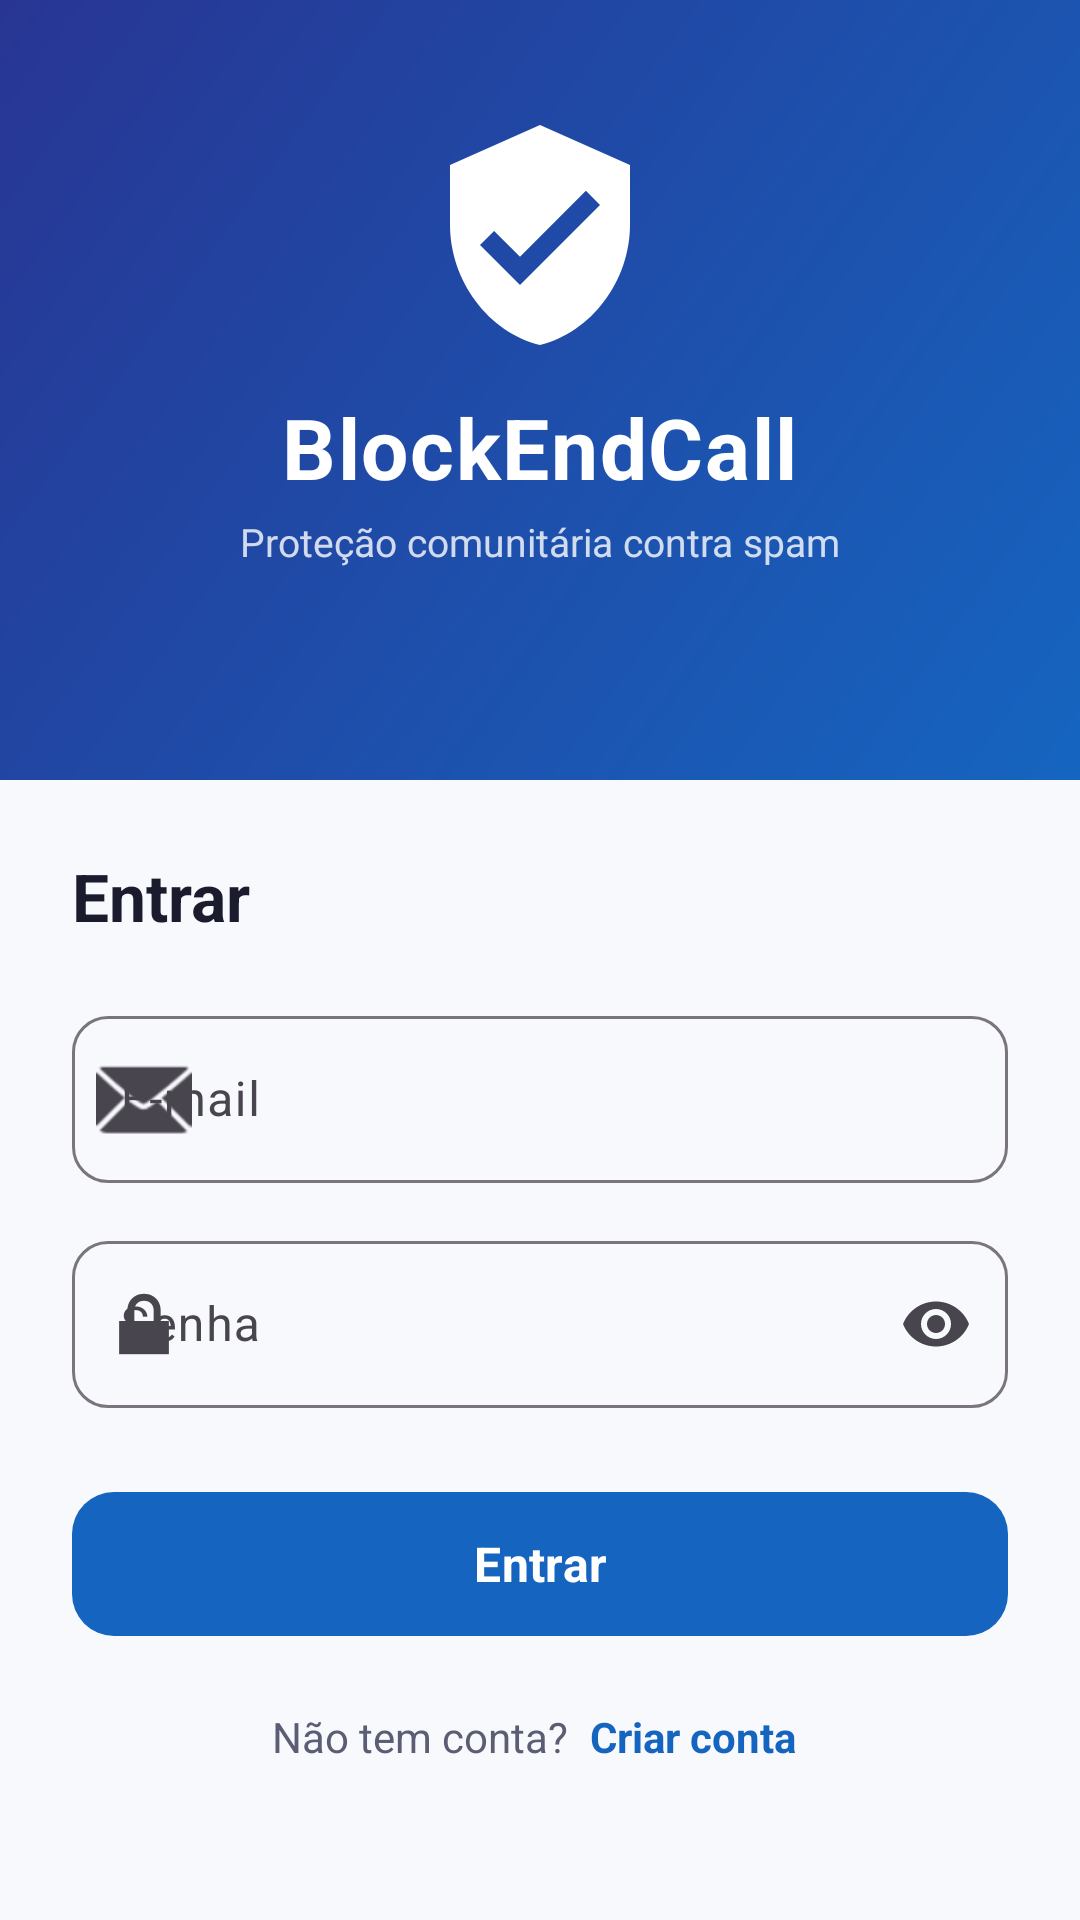

Screen size 1080px x 1920px. Icon name, then its box in pixels as region(x1, y1, x2, y2):
shield: region(450, 125, 630, 345)
